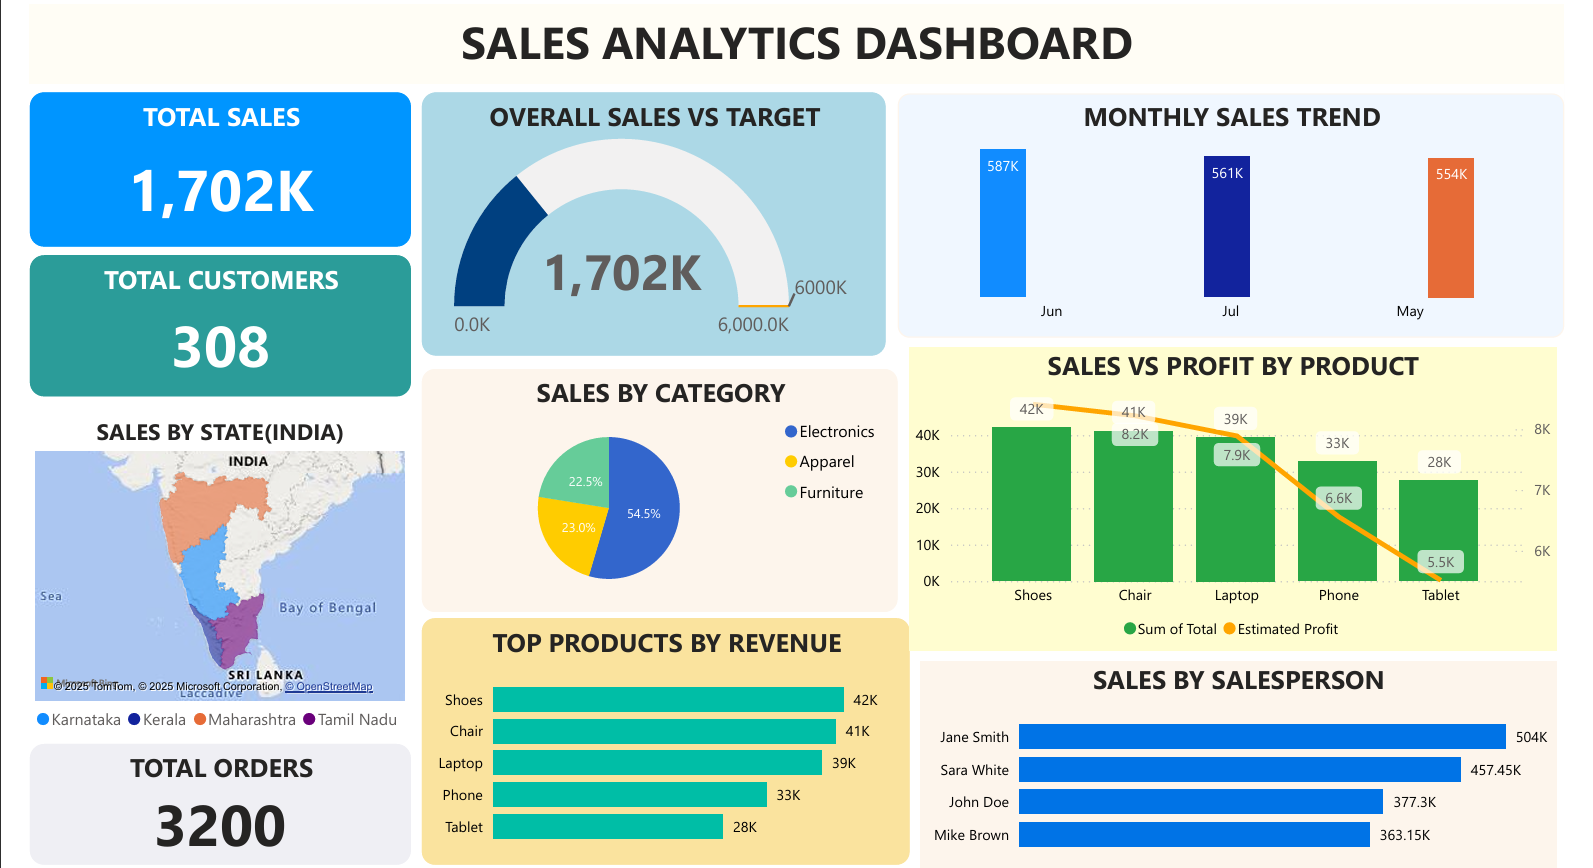

The dashboard page shown, as its layout file describes it:
{"tool":"powerbi","page":{"name":"Dashboard","canvas":[1280,720],"ordinal":0},"visuals":[{"type":"card","title":"TOTAL SALES","fields":{"Values":["Orders.Total Sales"]},"box":[0,73.3,317.8,128.9],"z":0},{"type":"card","title":"TOTAL CUSTOMERS","fields":{"Values":["Customers.Total Customers"]},"box":[0,208.5,318.3,118.3],"z":1000},{"type":"card","title":"TOTAL ORDERS","fields":{"Values":["Orders.Total Orders"]},"box":[0,616.7,317.8,101.1],"z":2000},{"type":"gauge","title":"OVERALL SALES VS TARGET","fields":{"Y":["Orders.Total Sales"],"TargetValue":["Orders.Sales Target"]},"box":[326.7,73.3,387.8,220],"z":3000},{"type":"clusteredColumnChart","title":"MONTHLY SALES TREND","fields":{"Category":["Orders.Sales Month"],"Y":["Orders.Total Sales"],"Series":["Orders.Sales Month"]},"box":[724.4,74.4,555.6,203.3],"z":4000},{"type":"barChart","title":"TOP PRODUCTS BY REVENUE","fields":{"Category":["Products.ProductName"],"Y":["OrderDetails.Total"]},"box":[326.7,512.2,407.8,205.6],"z":5000},{"type":"pieChart","title":"SALES BY CATEGORY","fields":{"Category":["Products.Category"],"Y":["OrderDetails.Total"]},"box":[326.7,304.4,397.8,202.2],"z":6000},{"type":"lineClusteredColumnComboChart","title":"SALES VS PROFIT BY PRODUCT","fields":{"Category":["Products.ProductName"],"Y":["OrderDetails.Total"],"Y2":["OrderDetails.Estimated Profit"]},"box":[734.4,285.6,540,253.3],"z":7000},{"type":"barChart","title":"SALES BY SALESPERSON","fields":{"Category":["SalesPersons.Name"],"Y":["Orders.TotalAmount"]},"box":[743.3,547.8,531.1,172.2],"z":8000},{"type":"filledMap","title":"SALES BY STATE(INDIA)","fields":{"Category":["SalesRegions.RegionName"],"Series":["SalesRegions.RegionName"]},"box":[0,342.7,318.3,272],"z":9000},{"type":"textbox","box":[0,0,1280,66],"z":10000}]}

Visuals, with their boxes on the page's 1280x720 design canvas (x1, y1, x2, y2). These are canvas units, not pixel positions in the 1593x868 screenshot, which may show the page scaled, cropped or inside an application window:
"TOTAL SALES" card: {"x1": 0, "y1": 73, "x2": 318, "y2": 202}
"TOTAL CUSTOMERS" card: {"x1": 0, "y1": 208, "x2": 318, "y2": 327}
"TOTAL ORDERS" card: {"x1": 0, "y1": 617, "x2": 318, "y2": 718}
"OVERALL SALES VS TARGET" gauge: {"x1": 327, "y1": 73, "x2": 714, "y2": 293}
"MONTHLY SALES TREND" clusteredColumnChart: {"x1": 724, "y1": 74, "x2": 1280, "y2": 278}
"TOP PRODUCTS BY REVENUE" barChart: {"x1": 327, "y1": 512, "x2": 734, "y2": 718}
"SALES BY CATEGORY" pieChart: {"x1": 327, "y1": 304, "x2": 724, "y2": 507}
"SALES VS PROFIT BY PRODUCT" lineClusteredColumnComboChart: {"x1": 734, "y1": 286, "x2": 1274, "y2": 539}
"SALES BY SALESPERSON" barChart: {"x1": 743, "y1": 548, "x2": 1274, "y2": 720}
"SALES BY STATE(INDIA)" filledMap: {"x1": 0, "y1": 343, "x2": 318, "y2": 615}
textbox: {"x1": 0, "y1": 0, "x2": 1280, "y2": 66}
